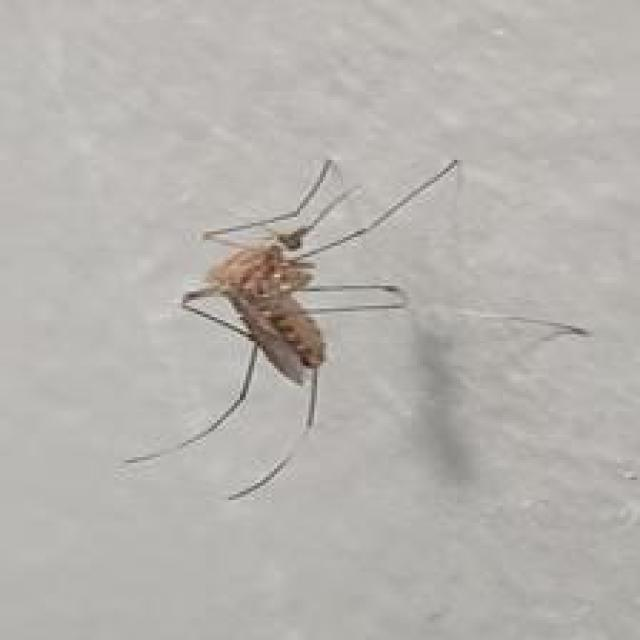Culex: (121, 156, 462, 501)
